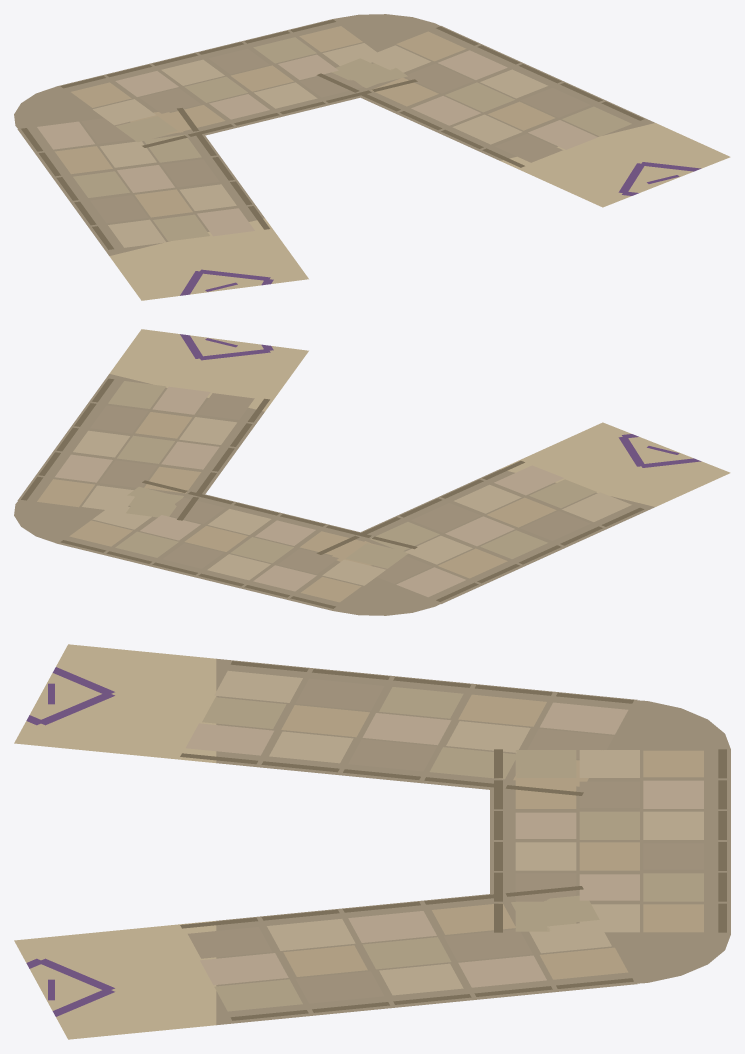
Rendered from route-temple_n-pyramid_n-walk.glb.
3 renders of one model, top to bottom at view 1: azimuth 30°, elevation 25°; view 2: azimuth 150°, elevation 25°; view 3: azimuth 270°, elevation 25°, orthographic. The views are drawn at different scales.
Visible parts, largest first — view 1: Surveyed floor · route-temple_n-pyramid_n-walk, North Temple to North Pyramid · walking arcade / #C9B798, North Temple to North Pyramid · walking arcade / #BDAD8E, North Temple to North Pyramid · walking arcade / #C7B399, North Temple to North Pyramid · walking arcade / #C2AE8D, North Temple to North Pyramid · walking arcade / #AE9D84, North Temple to North Pyramid · walking arcade / #85775D; view 2: Surveyed floor · route-temple_n-pyramid_n-walk, North Temple to North Pyramid · walking arcade / #C9B798, North Temple to North Pyramid · walking arcade / #C7B399, North Temple to North Pyramid · walking arcade / #BDAD8E, North Temple to North Pyramid · walking arcade / #C2AE8D, North Temple to North Pyramid · walking arcade / #AE9D84, North Temple to North Pyramid · walking arcade / #85775D; view 3: Surveyed floor · route-temple_n-pyramid_n-walk, North Temple to North Pyramid · walking arcade / #C9B798, North Temple to North Pyramid · walking arcade / #C7B399, North Temple to North Pyramid · walking arcade / #BDAD8E, North Temple to North Pyramid · walking arcade / #C2AE8D, North Temple to North Pyramid · walking arcade / #AE9D84, North Temple to North Pyramid · walking arcade / #85775D.
Boxes of the visible parts, x1,y1,x2,y2 form: Surveyed floor · route-temple_n-pyramid_n-walk: [14, 14, 730, 300]; North Temple to North Pyramid · walking arcade / #C9B798: [93, 43, 547, 247]; North Temple to North Pyramid · walking arcade / #BDAD8E: [73, 37, 631, 241]; North Temple to North Pyramid · walking arcade / #C7B399: [37, 50, 597, 236]; North Temple to North Pyramid · walking arcade / #C2AE8D: [54, 26, 554, 217]; North Temple to North Pyramid · walking arcade / #AE9D84: [81, 48, 590, 223]; North Temple to North Pyramid · walking arcade / #85775D: [21, 19, 644, 249]; Surveyed floor · route-temple_n-pyramid_n-walk: [14, 329, 730, 615]; North Temple to North Pyramid · walking arcade / #C9B798: [73, 417, 631, 585]; North Temple to North Pyramid · walking arcade / #C7B399: [55, 386, 563, 597]; North Temple to North Pyramid · walking arcade / #BDAD8E: [108, 381, 596, 568]; North Temple to North Pyramid · walking arcade / #C2AE8D: [37, 412, 556, 602]; North Temple to North Pyramid · walking arcade / #AE9D84: [90, 393, 590, 583]; North Temple to North Pyramid · walking arcade / #85775D: [21, 378, 644, 608]; Surveyed floor · route-temple_n-pyramid_n-walk: [14, 644, 730, 1039]; North Temple to North Pyramid · walking arcade / #C9B798: [214, 670, 703, 995]; North Temple to North Pyramid · walking arcade / #C7B399: [186, 702, 703, 987]; North Temple to North Pyramid · walking arcade / #BDAD8E: [202, 687, 703, 1011]; North Temple to North Pyramid · walking arcade / #C2AE8D: [281, 694, 703, 979]; North Temple to North Pyramid · walking arcade / #AE9D84: [188, 678, 703, 1003]; North Temple to North Pyramid · walking arcade / #85775D: [180, 661, 726, 1020].
Bounding box in the file's own units: 21.36 × 0.026 × 16.37.
